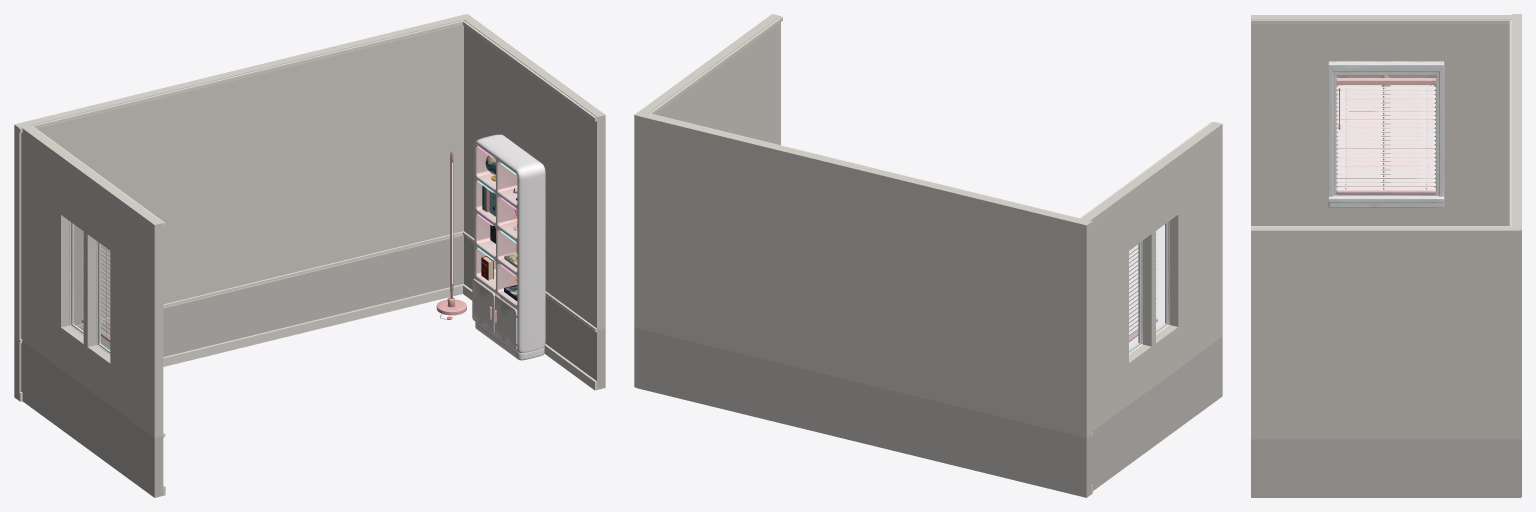
3 renders of one model, left to right at view 1: azimuth 30°, elevation 25°; view 2: azimuth 150°, elevation 25°; view 3: azimuth 270°, elevation 25°, orthographic. The views are drawn at different scales.
Parts seen in each view (by area): view 1: architecture.backWall.v6.upper, architecture.leftWall.v6.upper, architecture.rightWall.v6.upper, architecture.backWall.v6.lower, bookshelf.carcass, architecture.leftWall.v6.lower, architecture.rightWall.v6.lower, architecture.backWall.v6.baseboard, architecture.backWall.v6.topTrim, window.frame, architecture.backWall.v6.chairRail, window.glass.right (+5 smaller); view 2: architecture.backWall.v6.upper, architecture.backWall.v6.lower, architecture.leftWall.v6.upper, architecture.rightWall.v6.upper, architecture.leftWall.v6.lower, window.frame, window.glass.right, window.glass.left, architecture.rightWall.v6.topTrim; view 3: architecture.rightWall.v6.upper, architecture.leftWall.v6.upper, architecture.rightWall.v6.lower, window.frame, architecture.backWall.v6.upper, architecture.leftWall.v6.topTrim, window.headrail, architecture.backWall.v6.topTrim, window.glass.right, window.glass.left, window.bottomRail, window.slat.16 (+24 smaller).
Boxes of the visible parts, bbox=[...] form: architecture.backWall.v6.upper: bbox=[14, 14, 469, 340]; architecture.leftWall.v6.upper: bbox=[17, 124, 163, 437]; architecture.rightWall.v6.upper: bbox=[461, 14, 605, 329]; architecture.backWall.v6.lower: bbox=[14, 235, 463, 400]; bookshelf.carcass: bbox=[474, 134, 545, 360]; architecture.leftWall.v6.lower: bbox=[21, 341, 163, 497]; architecture.rightWall.v6.lower: bbox=[464, 236, 605, 389]; architecture.backWall.v6.baseboard: bbox=[19, 284, 464, 401]; architecture.backWall.v6.topTrim: bbox=[19, 20, 464, 132]; window.frame: bbox=[69, 221, 110, 354]; architecture.backWall.v6.chairRail: bbox=[19, 231, 464, 342]; window.glass.right: bbox=[74, 225, 83, 330]; architecture.backWall.v6.upper: bbox=[636, 112, 1091, 437]; architecture.backWall.v6.lower: bbox=[636, 328, 1091, 497]; architecture.leftWall.v6.upper: bbox=[1076, 122, 1222, 431]; architecture.rightWall.v6.upper: bbox=[634, 14, 780, 327]; architecture.leftWall.v6.lower: bbox=[1091, 336, 1222, 490]; window.frame: bbox=[1129, 221, 1169, 354]; window.glass.right: bbox=[1129, 244, 1138, 349]; window.glass.left: bbox=[1156, 225, 1164, 329]; architecture.rightWall.v6.topTrim: bbox=[649, 16, 782, 114]; architecture.rightWall.v6.upper: bbox=[1251, 226, 1521, 439]; architecture.leftWall.v6.upper: bbox=[1251, 15, 1521, 225]; architecture.rightWall.v6.lower: bbox=[1251, 439, 1521, 497]; window.frame: bbox=[1328, 61, 1444, 207]; architecture.backWall.v6.upper: bbox=[1512, 14, 1521, 437]; architecture.leftWall.v6.topTrim: bbox=[1251, 19, 1509, 23]; window.headrail: bbox=[1336, 77, 1435, 85]; architecture.backWall.v6.topTrim: bbox=[1509, 14, 1511, 226]; window.glass.right: bbox=[1391, 85, 1433, 184]; window.glass.left: bbox=[1339, 85, 1381, 184]; window.bottomRail: bbox=[1336, 190, 1435, 194]; window.slat.16: bbox=[1336, 153, 1435, 157].
Size of the model in its own units: 5.21 by 3 by 2.75.
84 materials, 34 textured.
